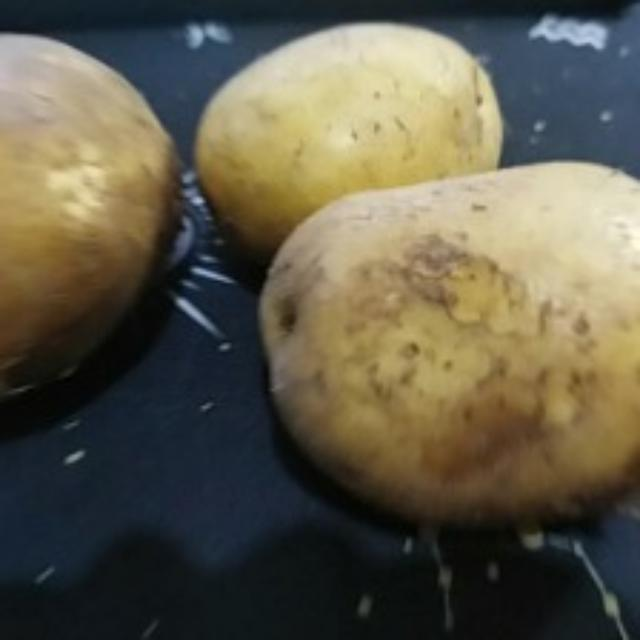Damaged potato: (255, 166, 640, 544)
Potato: (0, 30, 184, 446), (190, 23, 506, 259)
